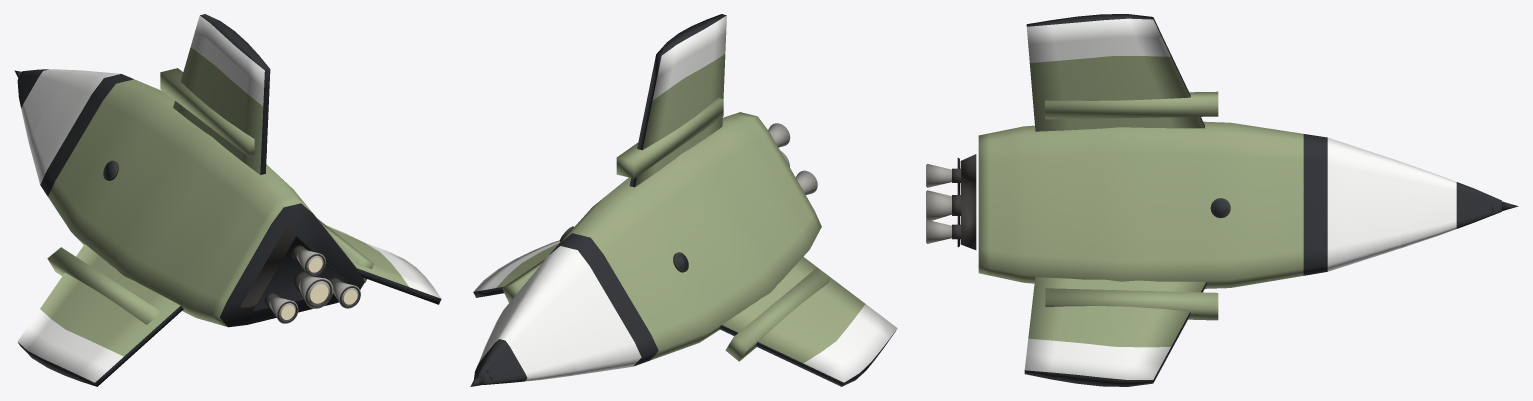
Rendered from Ship_Standard_14.glb.
3 renders of one model, left to right at view 1: azimuth 30°, elevation 25°; view 2: azimuth 150°, elevation 25°; view 3: azimuth 270°, elevation 25°, orthographic. The views are drawn at different scales.
Visible parts, largest first — view 1: Fuselage_RoundedTriangleTriFoldBody, Wing_LowerLeft_TriFoldCornerBladePaintedMesh, Wing_Dorsal_TriFoldCornerBladePaintedMesh, Wing_LowerRight_TriFoldCornerBladePaintedMesh, WingRootSocket_LowerLeft_IntegratedEmbeddedShoulder, WingRootSocket_Dorsal_IntegratedEmbeddedShoulder, Nose_RoundedTriangleTaperedForwardSection, EngineBlock_AftTriFoldTrimFrame, EngineBlock_AftTriangularIntegratedMountPlate, EngineEmitter, WingRootSocket_LowerRight_IntegratedEmbeddedShoulder, EngineBell_Center_BurnishedNozzle (+2 smaller); view 2: Fuselage_RoundedTriangleTriFoldBody, Wing_LowerLeft_TriFoldCornerBladePaintedMesh, Wing_Dorsal_TriFoldCornerBladePaintedMesh, Nose_RoundedTriangleTaperedForwardSection, WingRootSocket_Dorsal_IntegratedEmbeddedShoulder, WingRootSocket_LowerLeft_IntegratedEmbeddedShoulder, Wing_LowerRight_TriFoldCornerBladePaintedMesh, WingRootSocket_LowerRight_IntegratedEmbeddedShoulder, EngineBell_LowerLeft_BurnishedNozzle, EngineBell_Dorsal_BurnishedNozzle; view 3: Fuselage_RoundedTriangleTriFoldBody, Wing_Dorsal_TriFoldCornerBladePaintedMesh, Wing_LowerRight_TriFoldCornerBladePaintedMesh, Nose_RoundedTriangleTaperedForwardSection, WingRootSocket_Dorsal_IntegratedEmbeddedShoulder, WingRootSocket_LowerRight_IntegratedEmbeddedShoulder, EngineBlock_AftTriangularIntegratedMountPlate, EngineBell_Center_BurnishedNozzle.
Boxes of the visible parts, left/top/right/bottom form: Fuselage_RoundedTriangleTriFoldBody: left=28, top=70, right=364, bottom=327; Wing_LowerLeft_TriFoldCornerBladePaintedMesh: left=17, top=244, right=183, bottom=386; Wing_Dorsal_TriFoldCornerBladePaintedMesh: left=173, top=14, right=270, bottom=174; Wing_LowerRight_TriFoldCornerBladePaintedMesh: left=326, top=225, right=441, bottom=304; WingRootSocket_LowerLeft_IntegratedEmbeddedShoulder: left=47, top=247, right=160, bottom=324; WingRootSocket_Dorsal_IntegratedEmbeddedShoulder: left=160, top=68, right=266, bottom=157; Nose_RoundedTriangleTaperedForwardSection: left=17, top=69, right=79, bottom=141; EngineBlock_AftTriFoldTrimFrame: left=253, top=236, right=349, bottom=311; EngineBlock_AftTriangularIntegratedMountPlate: left=240, top=226, right=347, bottom=308; EngineEmitter: left=281, top=257, right=357, bottom=319; WingRootSocket_LowerRight_IntegratedEmbeddedShoulder: left=318, top=219, right=374, bottom=282; EngineBell_Center_BurnishedNozzle: left=298, top=276, right=333, bottom=308; Fuselage_RoundedTriangleTriFoldBody: left=485, top=112, right=821, bottom=375; Wing_LowerLeft_TriFoldCornerBladePaintedMesh: left=718, top=257, right=897, bottom=386; Wing_Dorsal_TriFoldCornerBladePaintedMesh: left=629, top=14, right=726, bottom=187; Nose_RoundedTriangleTaperedForwardSection: left=474, top=298, right=577, bottom=384; WingRootSocket_Dorsal_IntegratedEmbeddedShoulder: left=616, top=98, right=723, bottom=178; WingRootSocket_LowerLeft_IntegratedEmbeddedShoulder: left=725, top=268, right=830, bottom=361; Wing_LowerRight_TriFoldCornerBladePaintedMesh: left=473, top=240, right=560, bottom=297; WingRootSocket_LowerRight_IntegratedEmbeddedShoulder: left=502, top=258, right=545, bottom=302; EngineBell_LowerLeft_BurnishedNozzle: left=796, top=170, right=817, bottom=194; EngineBell_Dorsal_BurnishedNozzle: left=768, top=123, right=790, bottom=147; Fuselage_RoundedTriangleTriFoldBody: left=978, top=121, right=1400, bottom=288; Wing_Dorsal_TriFoldCornerBladePaintedMesh: left=1026, top=14, right=1204, bottom=131; Wing_LowerRight_TriFoldCornerBladePaintedMesh: left=1024, top=277, right=1206, bottom=386; Nose_RoundedTriangleTaperedForwardSection: left=1401, top=162, right=1501, bottom=248; WingRootSocket_Dorsal_IntegratedEmbeddedShoulder: left=1045, top=91, right=1218, bottom=119; WingRootSocket_LowerRight_IntegratedEmbeddedShoulder: left=1045, top=288, right=1218, bottom=320; EngineBlock_AftTriangularIntegratedMountPlate: left=960, top=154, right=976, bottom=249; EngineBell_Center_BurnishedNozzle: left=927, top=190, right=951, bottom=220.
Bounding box in the file's own units: 5.57 × 4.15 × 7.83.
